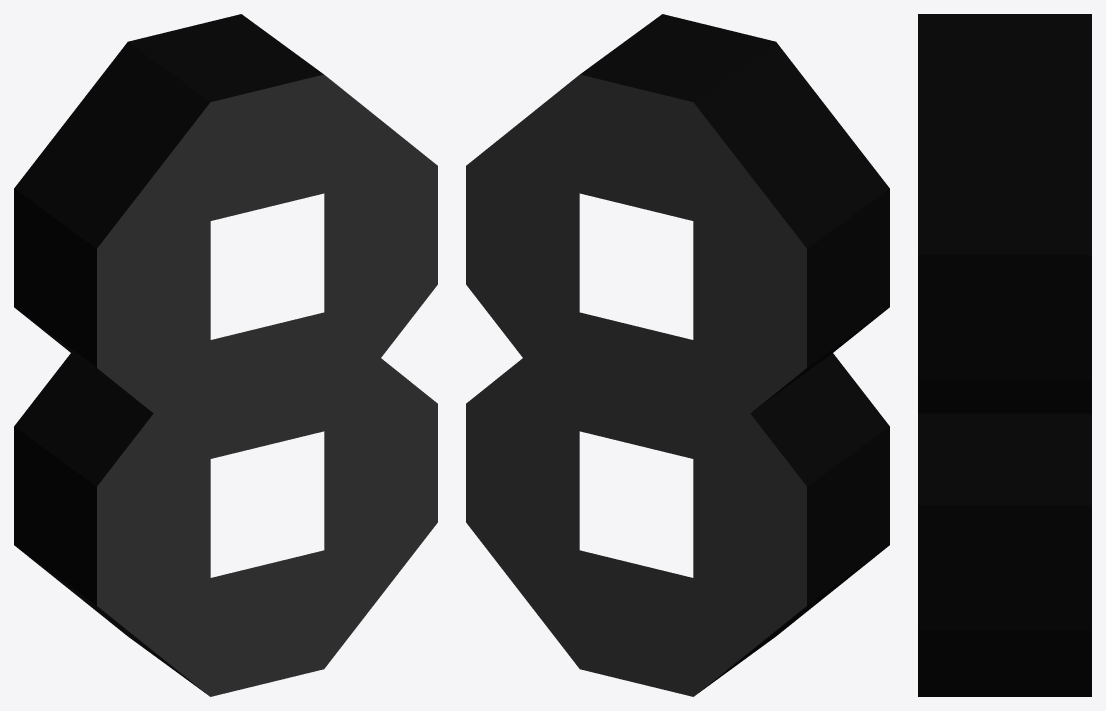
The model's file is afcc3d41-afe9-4269-b513-6029e0572fa2.glb.
The picture shows the model from 3 angles, left to right: view 1: azimuth 30°, elevation 25°; view 2: azimuth 150°, elevation 25°; view 3: azimuth 270°, elevation 25°; orthographic projection. The views are drawn at different scales.
Parts seen in each view (by area): view 1: 8_DeltaBlock_Black; view 2: 8_DeltaBlock_Black; view 3: 8_DeltaBlock_Black.
Boxes of the visible parts, x1,y1,x2,y2 form: 8_DeltaBlock_Black: (14,14,437,696); 8_DeltaBlock_Black: (466,14,889,696); 8_DeltaBlock_Black: (918,14,1091,696).
Size of what is drawn, in the model's own units: 0.1071 by 0.1786 by 0.045.
2 materials, 2 textured.
